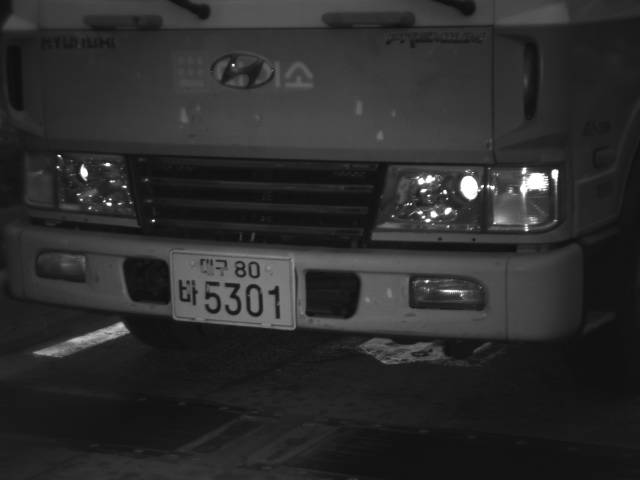car: (1, 1, 638, 353)
plate: (169, 250, 298, 331)
